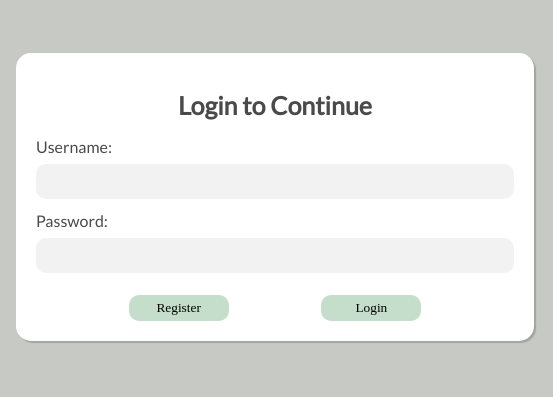
it: Login component › clicking back button shows login form
Step 1. Click the button "Register" → (179, 308), box x1=129 y1=295 x2=229 y2=321
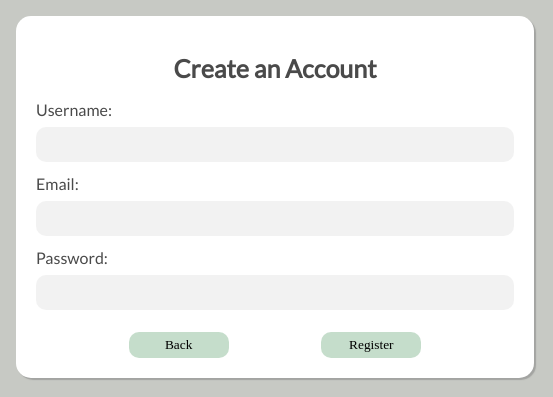
Step 2. Click the button "Back" → (179, 345), box x1=129 y1=332 x2=229 y2=358
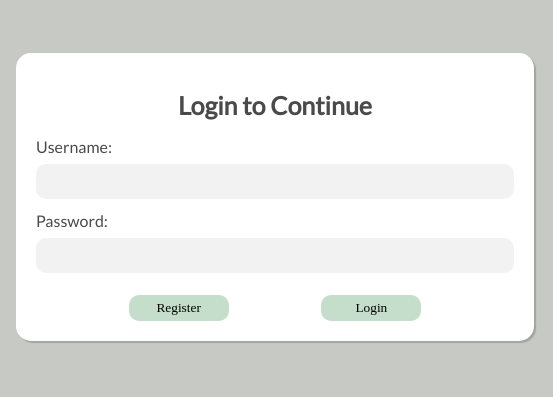
Expected: the heading "Login to Continue" is shown, x1=178 y1=90 x2=372 y2=120
